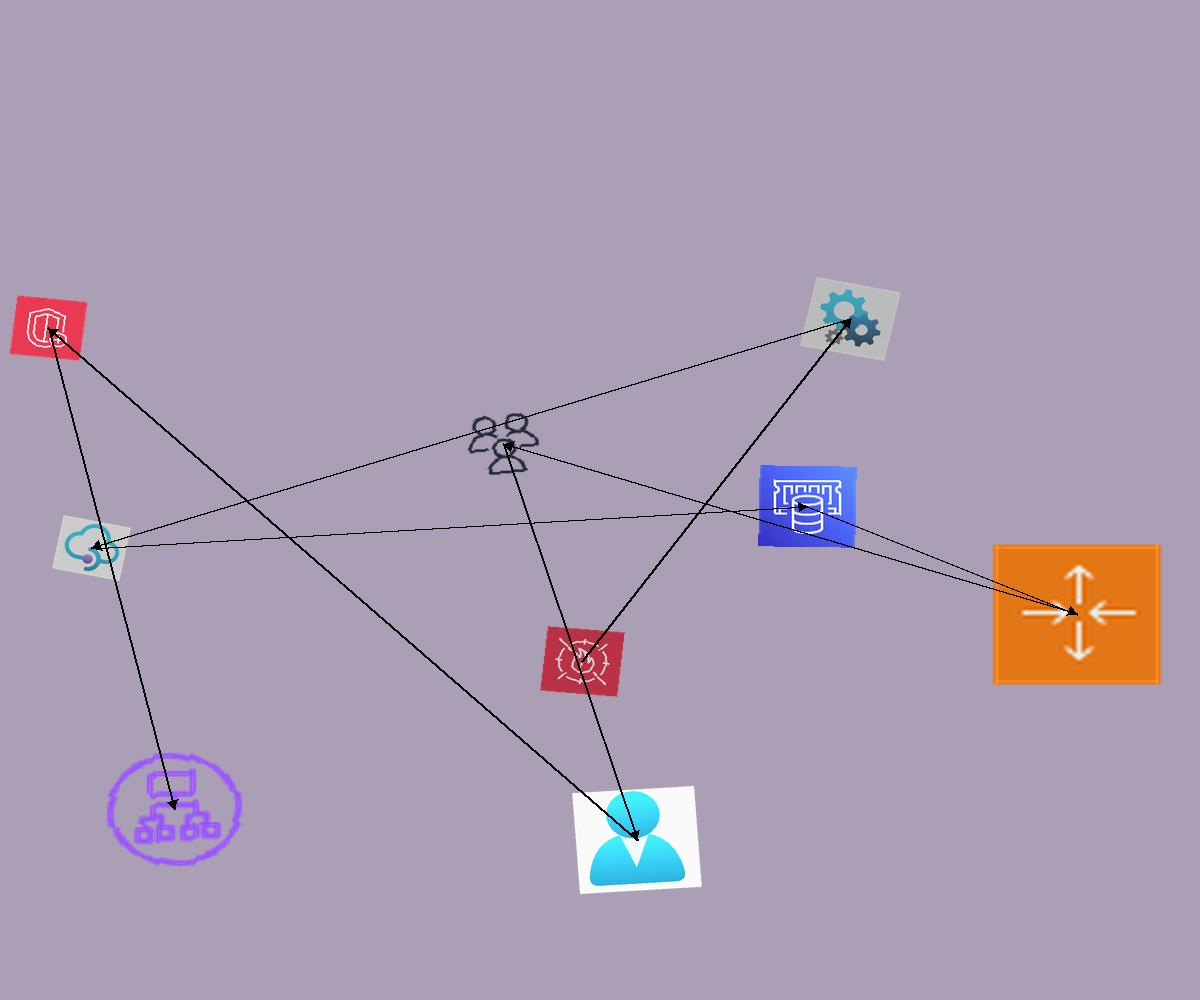AWS-ElastiCache: (758, 465, 857, 548)
AWS-Res_Elastic-Load-Balancing_Application-Load-Balancer: (95, 743, 254, 876)
AWS-Res_Users: (460, 408, 547, 480)
AWS-Scaling-group: (989, 541, 1165, 688)
AWS-Shield: (9, 295, 88, 361)
AWS-WAF: (540, 626, 625, 697)
Azure_api: (800, 277, 901, 361)
Azure_api_gateway: (52, 515, 131, 581)
Azure_users: (572, 786, 702, 894)
